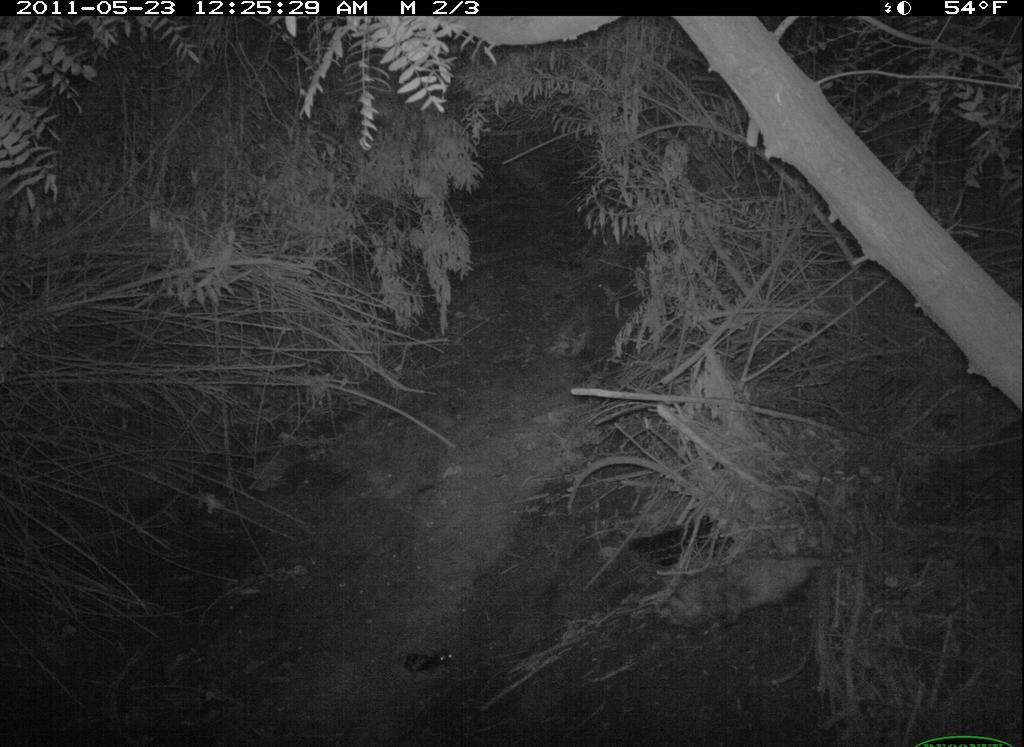opossum: (660, 545, 900, 638), (391, 646, 465, 687)
